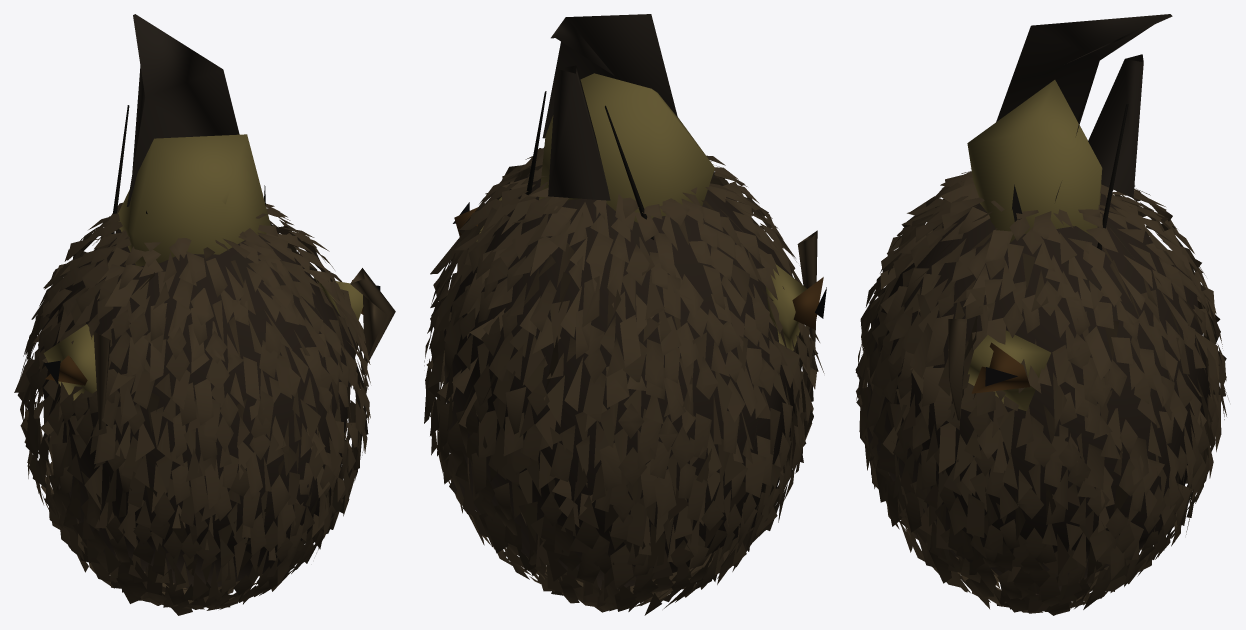
Rendered from bird_head.obj.
The picture shows the model from 3 angles, left to right: view 1: azimuth 30°, elevation 25°; view 2: azimuth 150°, elevation 25°; view 3: azimuth 270°, elevation 25°; orthographic projection. The views are drawn at different scales.
Parts seen in each view (by area): view 1: PIECE_BIRD_HEAD_RIG; view 2: PIECE_BIRD_HEAD_RIG; view 3: PIECE_BIRD_HEAD_RIG.
Boxes of the visible parts, x1,y1,x2,y2 form: PIECE_BIRD_HEAD_RIG: (14, 14, 395, 615); PIECE_BIRD_HEAD_RIG: (424, 14, 826, 615); PIECE_BIRD_HEAD_RIG: (855, 14, 1229, 615).
Size of the model in its own units: 0.0776 by 0.1257 by 0.0727.
1 material, 1 textured.
